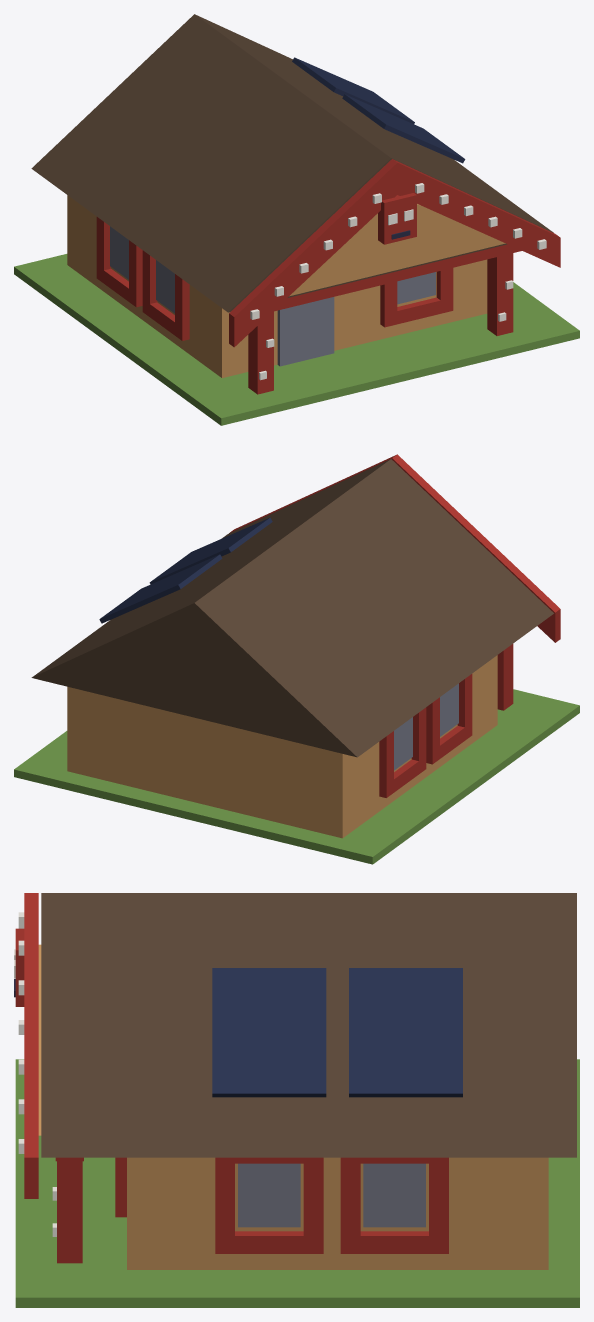
The model's file is house-1x1-1f-whare-a-solar.glb.
3 views of the same model, one above another, from view 1: azimuth 30°, elevation 25°; view 2: azimuth 150°, elevation 25°; view 3: azimuth 270°, elevation 25° (orthographic). The views are drawn at different scales.
Parts seen in each view (by area): view 1: house-1x1-1f-whare-a-solar; view 2: house-1x1-1f-whare-a-solar; view 3: house-1x1-1f-whare-a-solar.
Boxes of the visible parts, x1,y1,x2,y2 form: house-1x1-1f-whare-a-solar: (14,14,579,425); house-1x1-1f-whare-a-solar: (14,454,579,864); house-1x1-1f-whare-a-solar: (14,893,579,1307).
Size of the model in its own units: 0.99 by 0.5725 by 0.993.
Materials: 1 (1 with a texture image).
